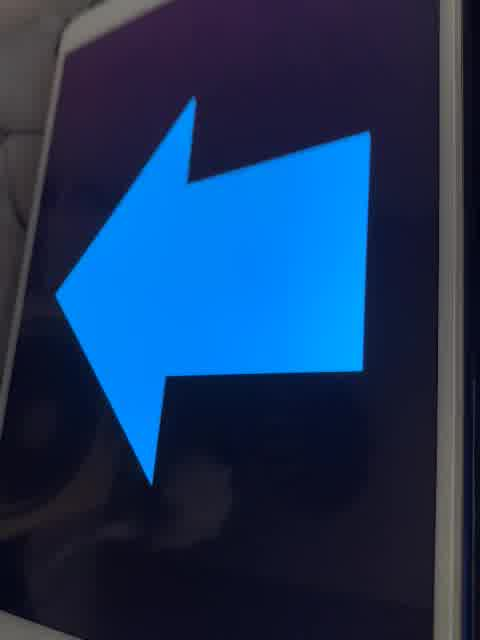left: (50, 96, 378, 488)
